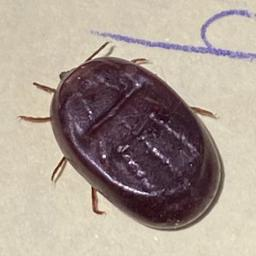Rhipicephalus sanguineus: (19, 42, 223, 229)
